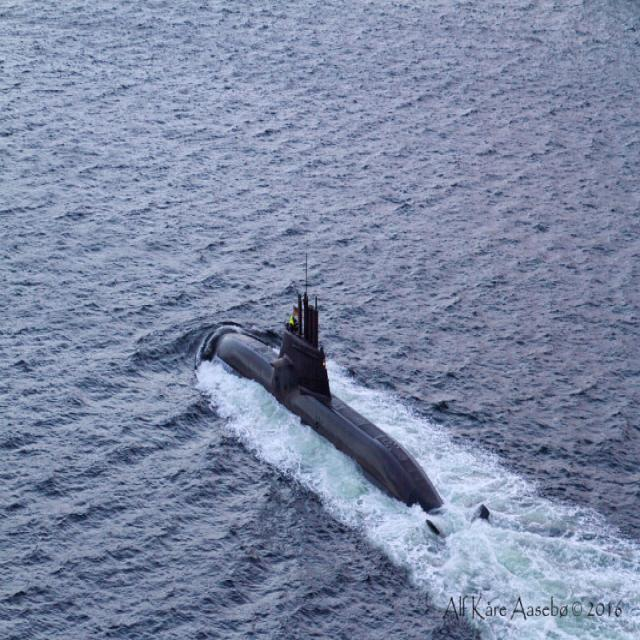submarine: (191, 275, 504, 533)
